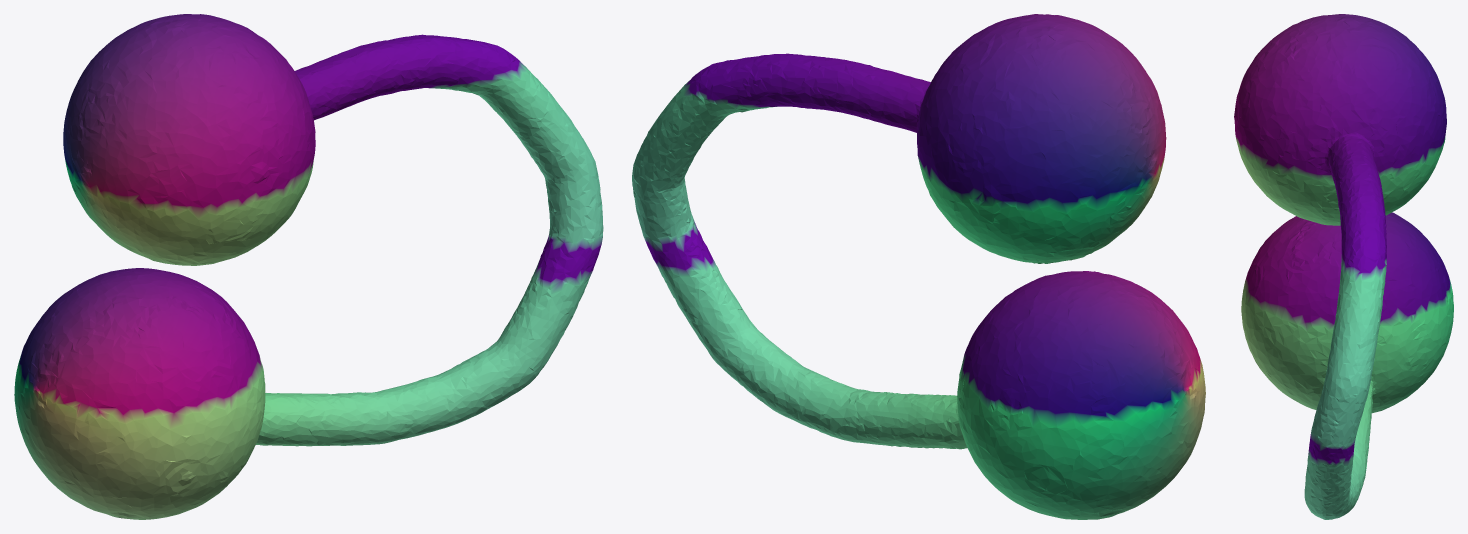
File: twoballs-6.off.obj
3 views of the same model, side by side, from view 1: azimuth 30°, elevation 25°; view 2: azimuth 150°, elevation 25°; view 3: azimuth 270°, elevation 25° (orthographic). The views are drawn at different scales.
Bounding box in the file's own units: 1.45 × 1.17 × 0.5824.
